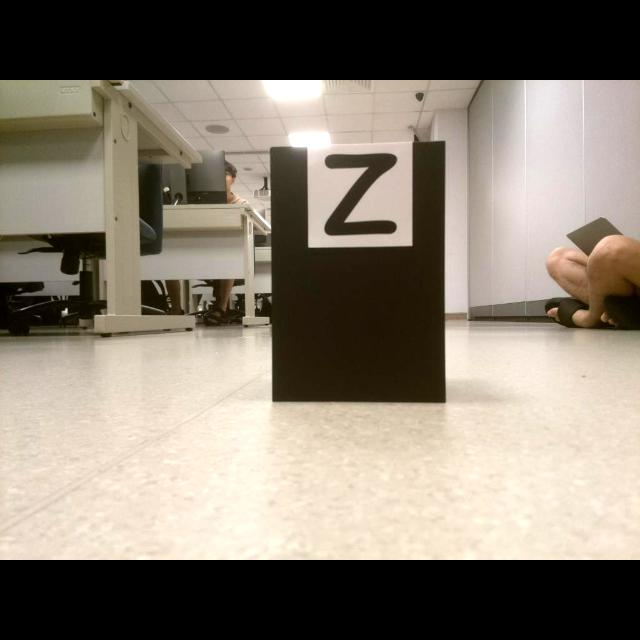Z: (325, 154, 397, 235)
